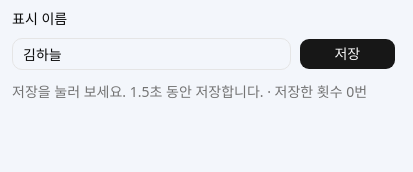
Test case: button loading: disabled with a spinner while saving, then a check; a double press saves once
Later steps or results of the test are not shown.
Double-click the button "저장" at [347, 54], box [299,38,396,70]
Wait 3500 ms
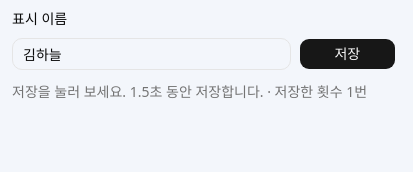
expect the message shows "저장한 횟수 1번": met, box [12,82,396,102]
